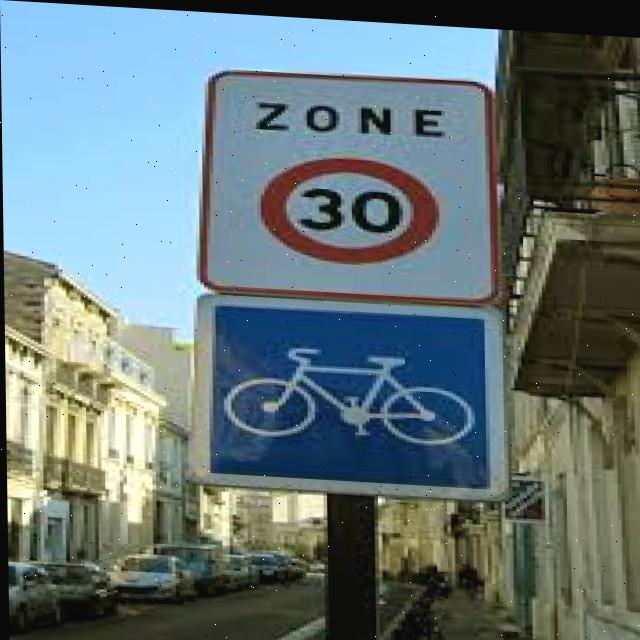Speed limit 30: (245, 152, 448, 271)
